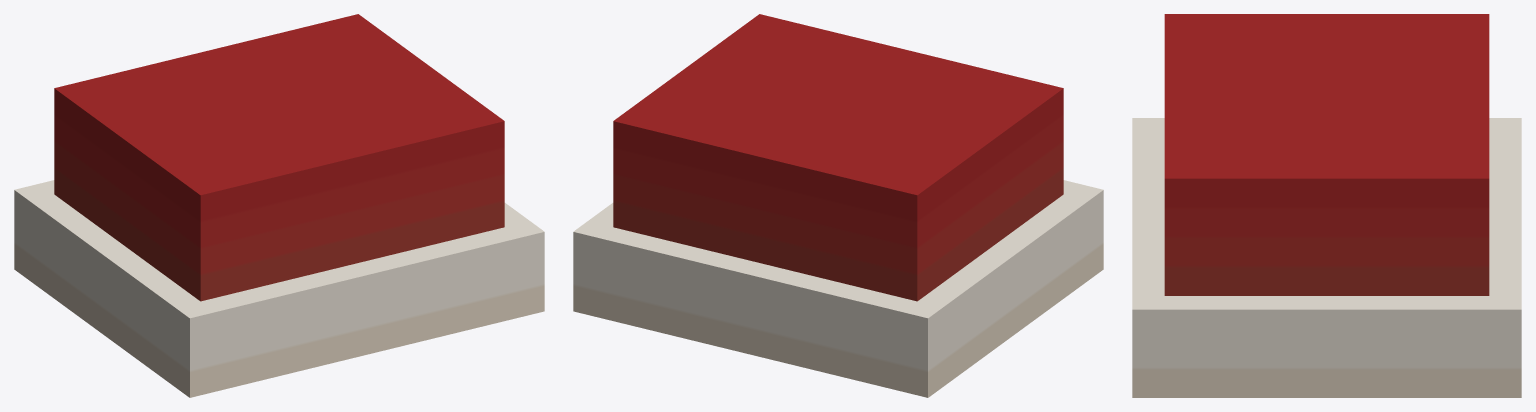
The picture shows the model from 3 angles, left to right: view 1: azimuth 30°, elevation 25°; view 2: azimuth 150°, elevation 25°; view 3: azimuth 270°, elevation 25°; orthographic projection. The views are drawn at different scales.
Visible parts, largest first — view 1: Root065; view 2: Root065; view 3: Root065.
Part boxes in pixels (left/top/right/bottom): Root065: left=14, top=14, right=544, bottom=397; Root065: left=573, top=14, right=1103, bottom=397; Root065: left=1132, top=14, right=1521, bottom=397.
Bounding box in the file's own units: 14 × 7 × 12.
